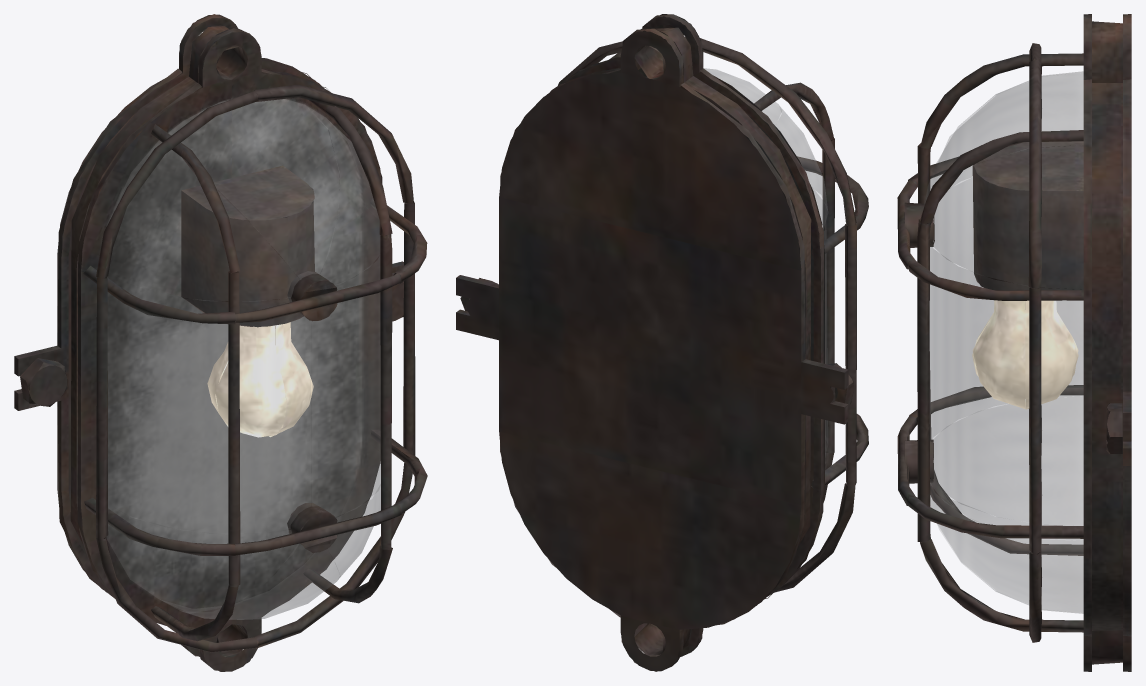
File: lamp_wall.glb
The picture shows the model from 3 angles, left to right: view 1: azimuth 30°, elevation 25°; view 2: azimuth 150°, elevation 25°; view 3: azimuth 270°, elevation 25°; orthographic projection.
Visible parts, largest first — view 1: lamp_wall; view 2: lamp_wall; view 3: lamp_wall.
Boxes of the visible parts, x1,y1,x2,y2 form: lamp_wall: (14, 14, 427, 671); lamp_wall: (456, 14, 868, 671); lamp_wall: (897, 14, 1131, 671).
Bounding box in the file's own units: 0.2737 × 0.4299 × 0.1401.
2 materials, 2 textured.
